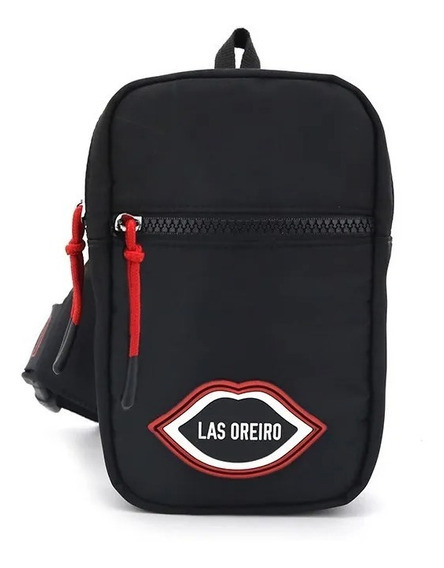cartera: (21, 25, 395, 517)
